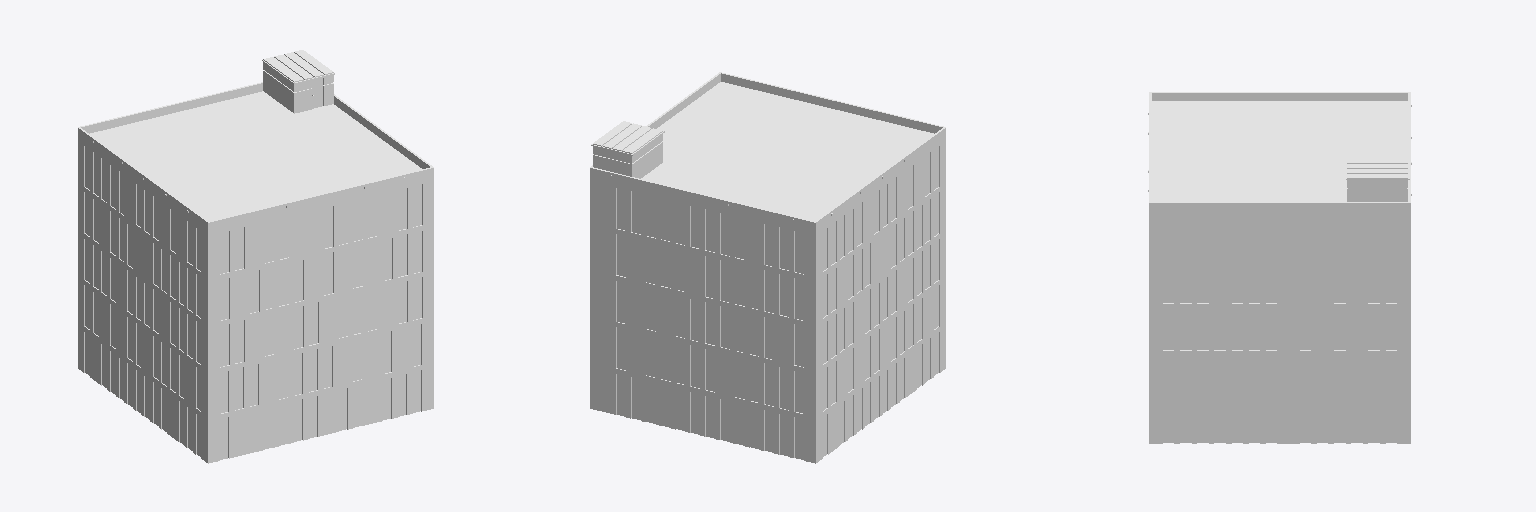
File: GDS2_Skyscraper-0.obj
3 views of the same model, side by side, from view 1: azimuth 30°, elevation 25°; view 2: azimuth 150°, elevation 25°; view 3: azimuth 270°, elevation 25° (orthographic).
Visible parts, largest first — view 1: GDS2_Skyscraper-0; view 2: GDS2_Skyscraper-0; view 3: GDS2_Skyscraper-0.
Part boxes in pixels (x1,y1,x2,y2): GDS2_Skyscraper-0: (78, 50, 433, 463); GDS2_Skyscraper-0: (590, 72, 945, 463); GDS2_Skyscraper-0: (1148, 92, 1411, 443).
Size of the model in its own units: 23.1 by 25.6 by 23.1.